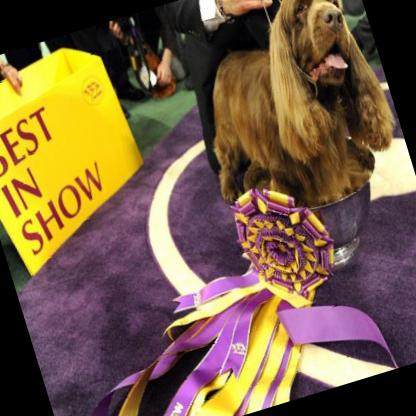Sussex_spaniel: (166, 0, 411, 234)
